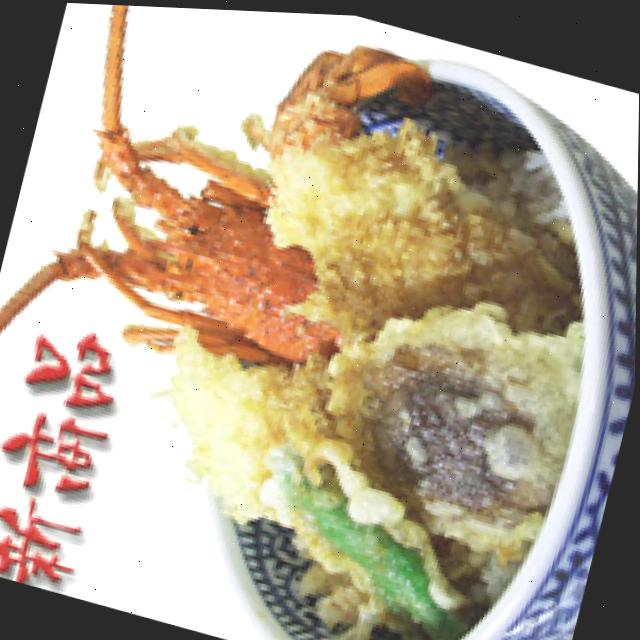熟制海鲜: (77, 3, 640, 640)
